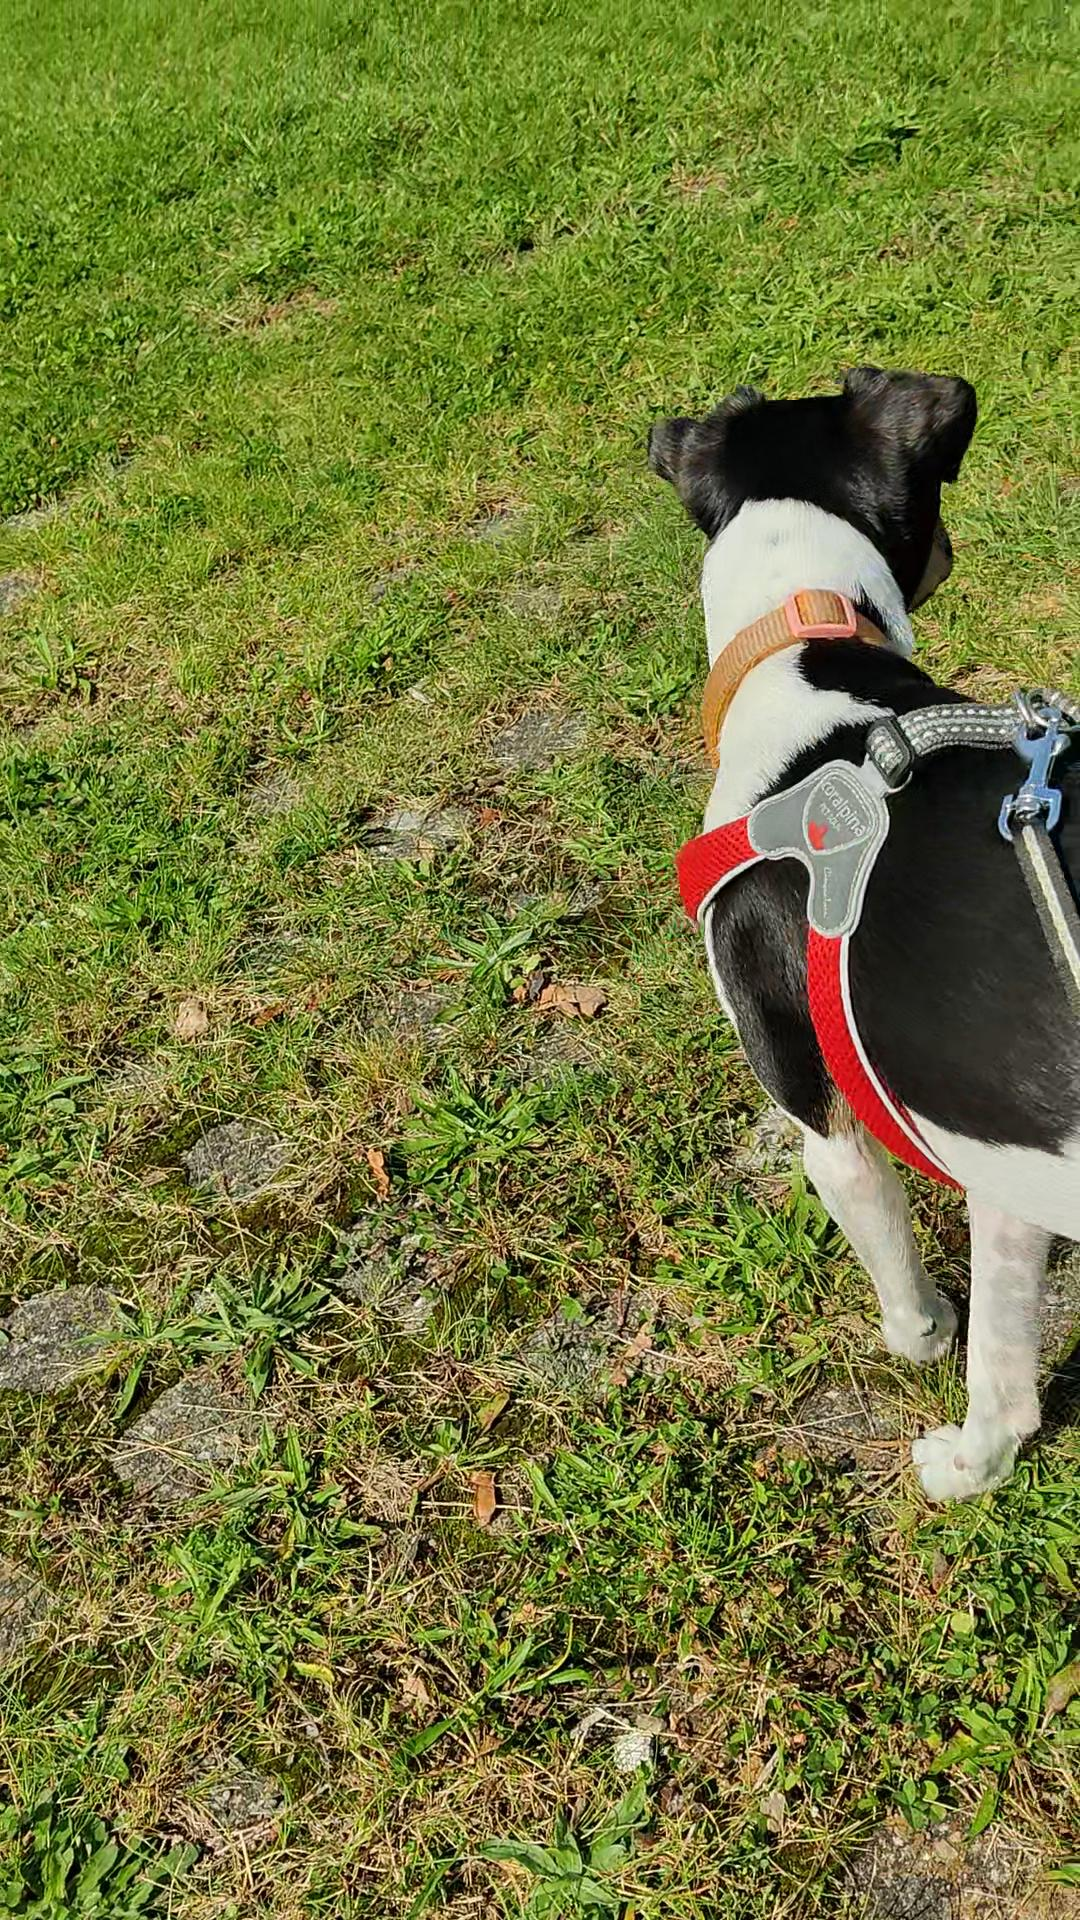Dog: (588, 327, 1079, 1555)
